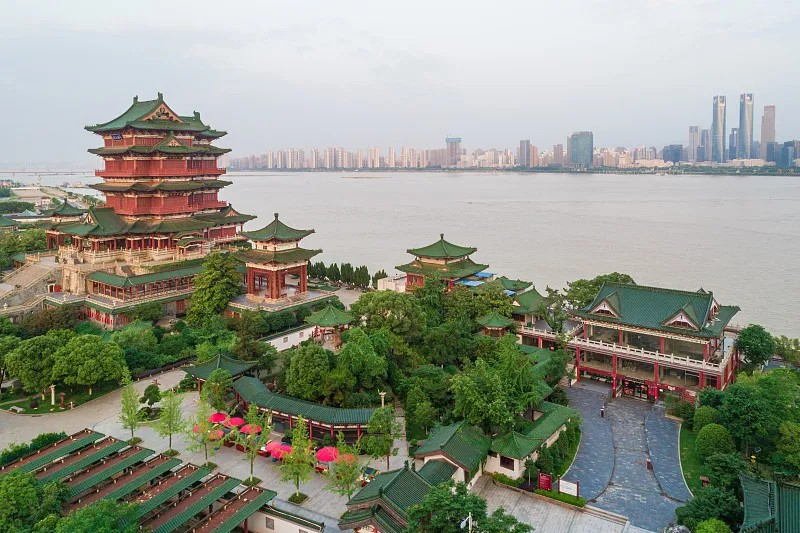Teng: (67, 93, 256, 247)
